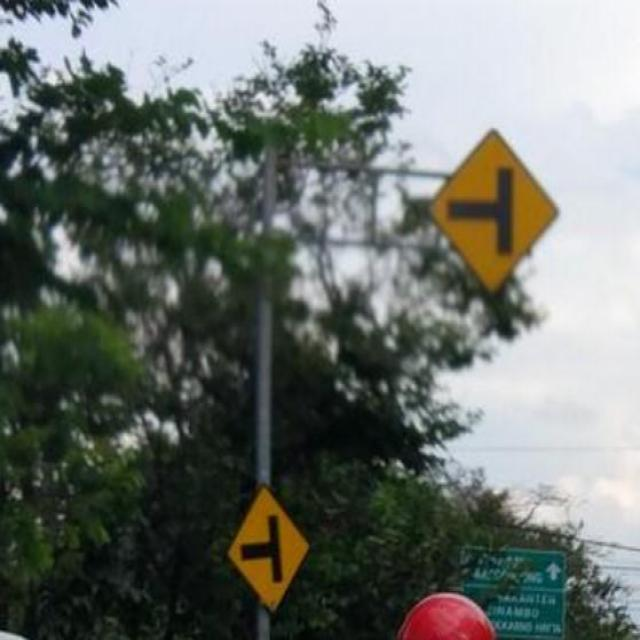traffic sign: (429, 137, 560, 292), (223, 488, 312, 609)
